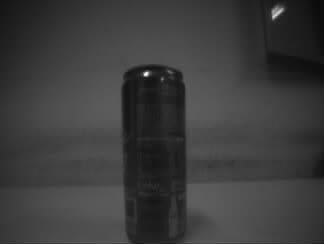Tin can: (119, 64, 187, 244)
